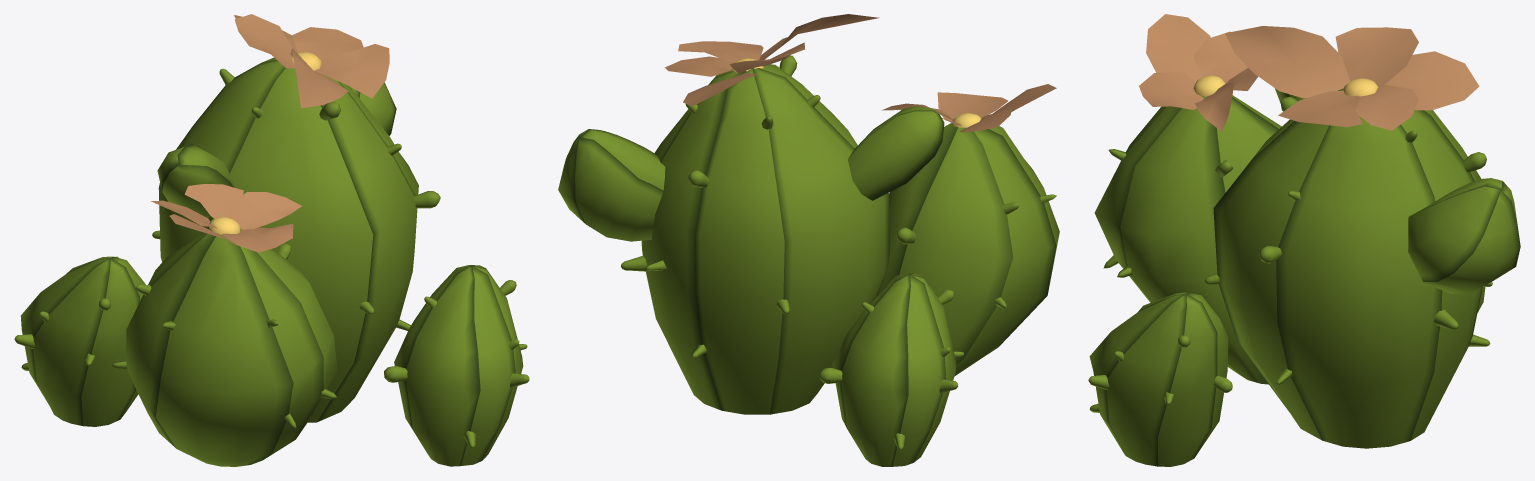
Rendered from BR_Cactus_1x1x1.fbx.
3 views of the same model, side by side, from view 1: azimuth 30°, elevation 25°; view 2: azimuth 150°, elevation 25°; view 3: azimuth 270°, elevation 25° (orthographic). The views are drawn at different scales.
Visible parts, largest first — view 1: BR_Cactus_1x1x1; view 2: BR_Cactus_1x1x1; view 3: BR_Cactus_1x1x1.
Part boxes in pixels (bbox=[...]): BR_Cactus_1x1x1: bbox=[14, 14, 529, 466]; BR_Cactus_1x1x1: bbox=[558, 14, 1059, 466]; BR_Cactus_1x1x1: bbox=[1088, 14, 1520, 466].
Size of the model in its own units: 109 by 97.71 by 102.
